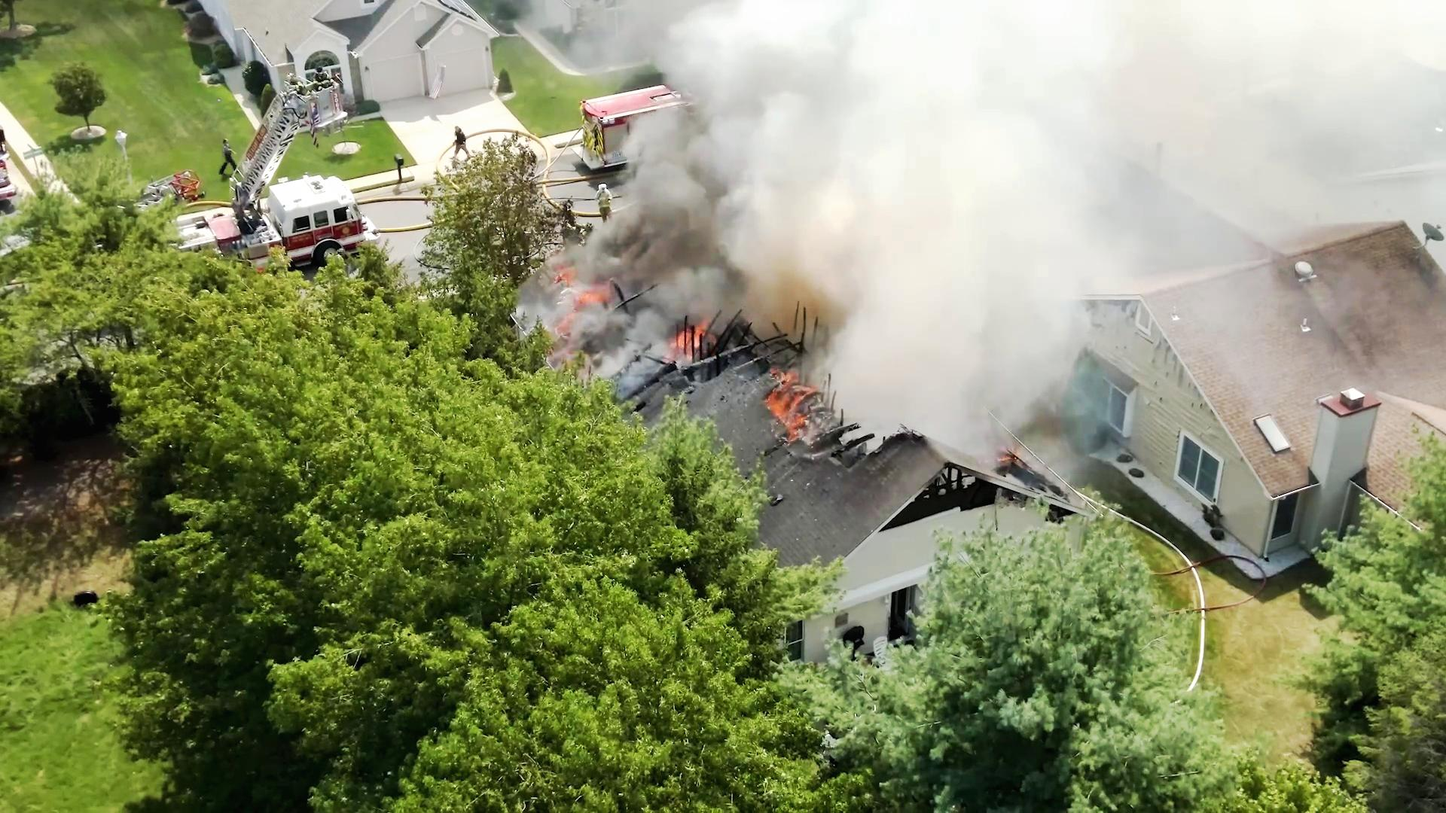smoke: (846, 138, 1094, 409), (602, 93, 780, 308)
